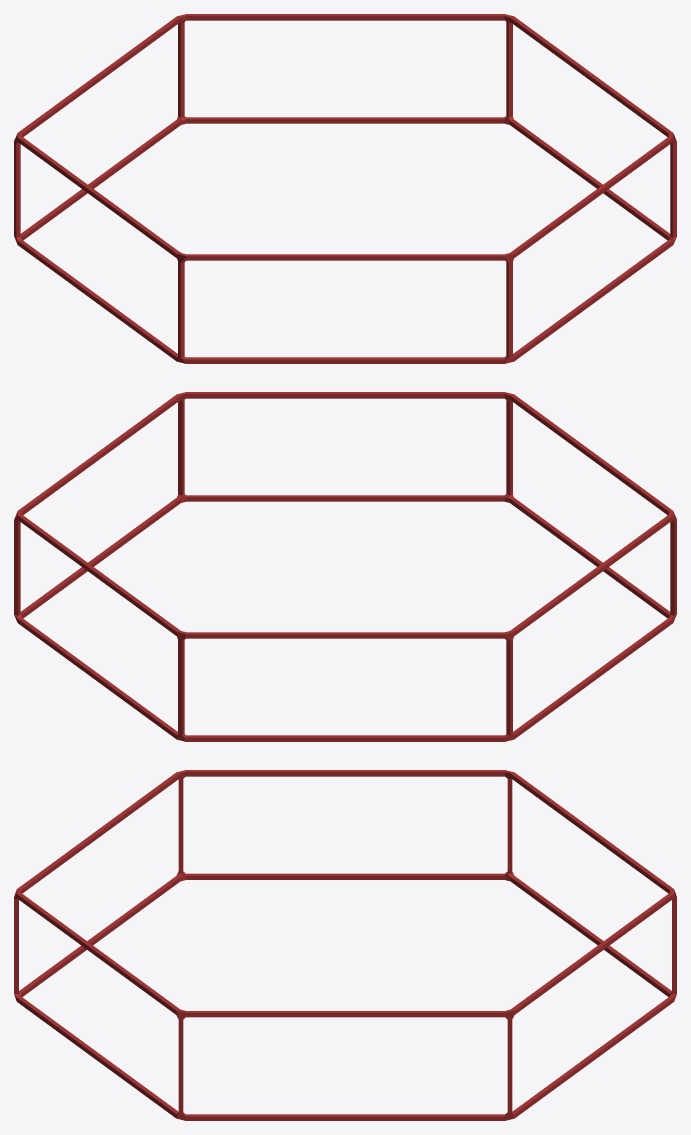
Rendered from SelectionRed.fbx.
3 views of the same model, one above another, from view 1: azimuth 30°, elevation 25°; view 2: azimuth 150°, elevation 25°; view 3: azimuth 270°, elevation 25° (orthographic).
Parts seen in each view (by area): view 1: SelectionRed; view 2: SelectionRed; view 3: SelectionRed.
Boxes of the visible parts, <box> form: SelectionRed: <box>14,14,676,363</box>; SelectionRed: <box>14,392,676,741</box>; SelectionRed: <box>14,770,676,1120</box>.
Bounding box in the file's own units: 1.01 × 0.209 × 1.16.
